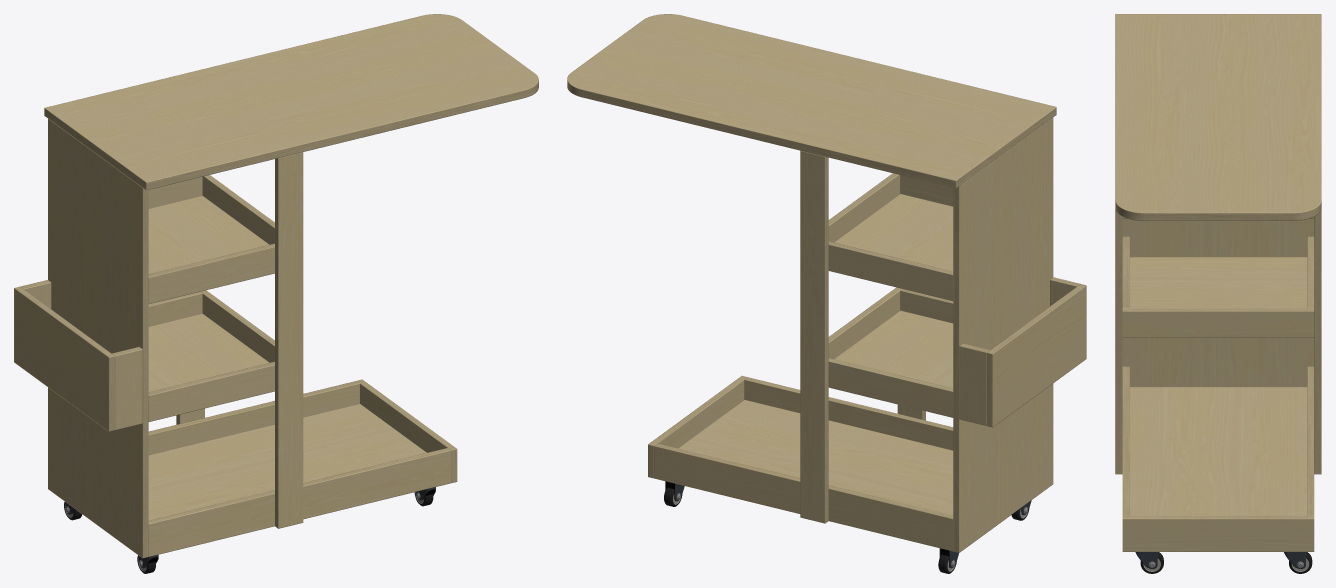
3 views of the same model, side by side, from view 1: azimuth 30°, elevation 25°; view 2: azimuth 150°, elevation 25°; view 3: azimuth 270°, elevation 25° (orthographic). The views are drawn at different scales.
Parts seen in each view (by area): view 1: 밤나무; view 2: 밤나무; view 3: 밤나무.
Boxes of the visible parts, bbox=[...] form: 밤나무: bbox=[14, 14, 538, 573]; 밤나무: bbox=[567, 14, 1086, 573]; 밤나무: bbox=[1115, 14, 1321, 573].
Bounding box in the file's own units: 0.867 × 0.773 × 0.35.
Materials: 1 (1 with a texture image).
